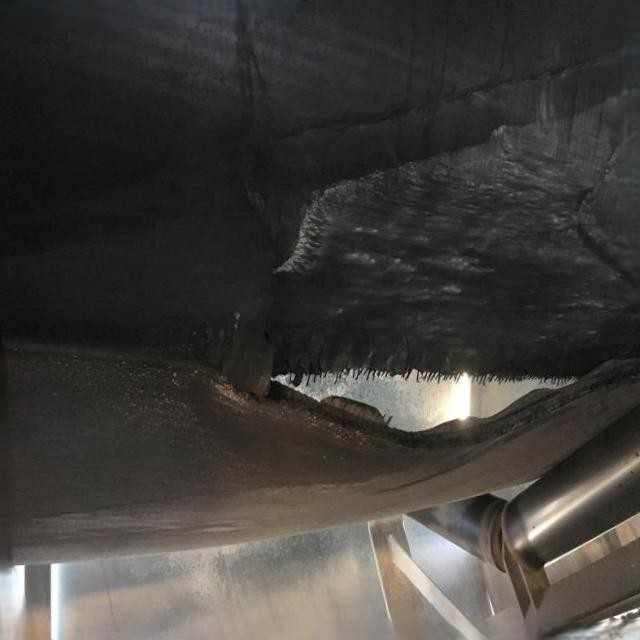Tear: (230, 338, 640, 454)
